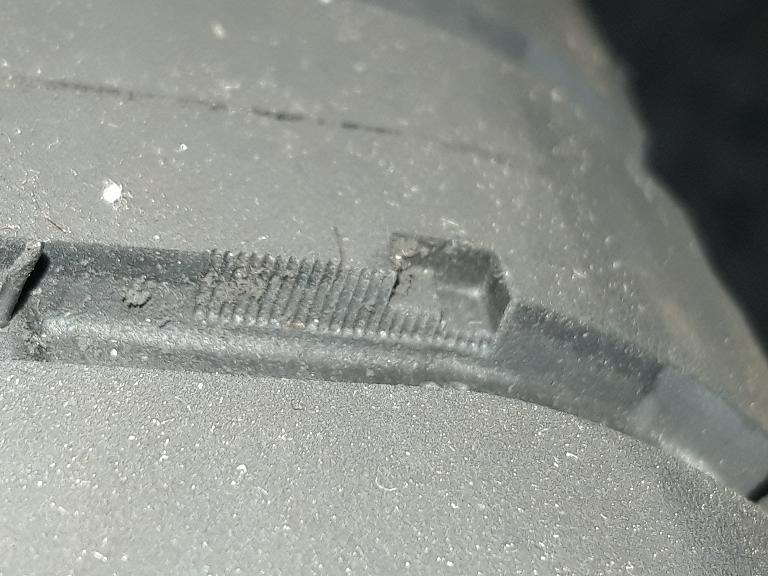temoin:50: (320, 219, 528, 376)
